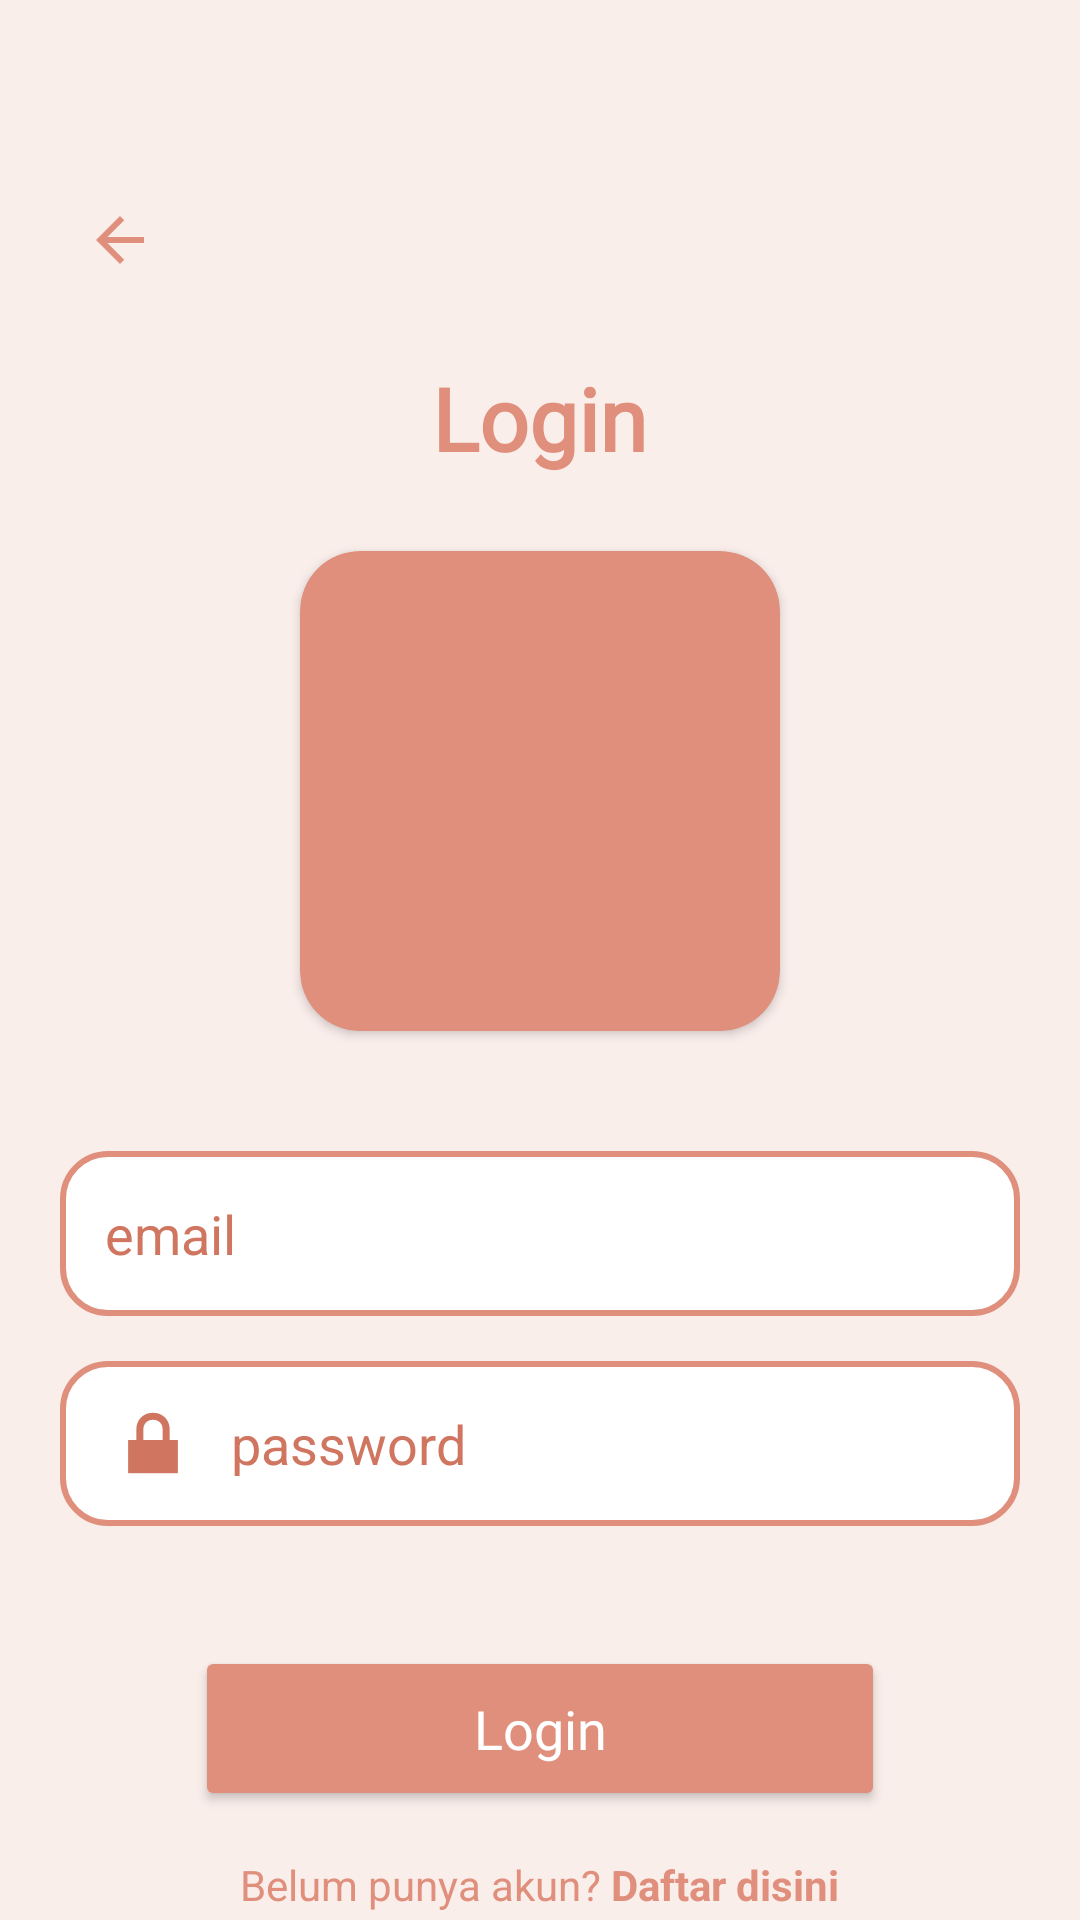

Icons on this 1080×1920 Android screen, each with the point to tap as (x,y):
back: (120,240)
